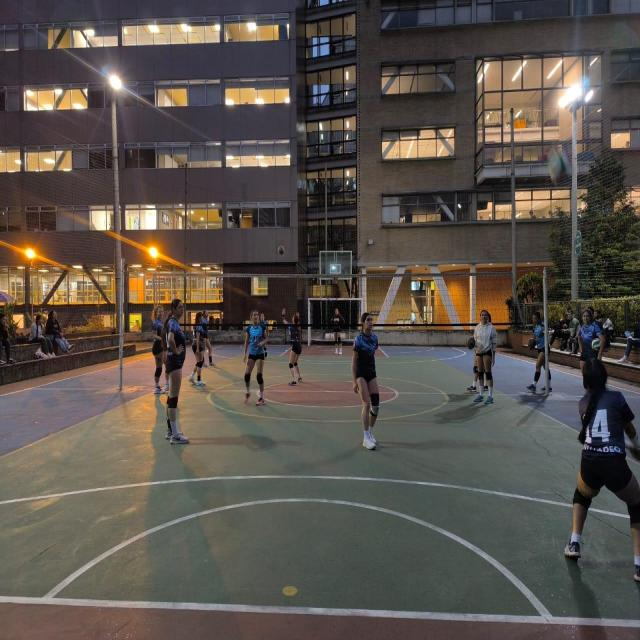volleyball: (591, 337, 601, 351), (466, 337, 476, 348), (528, 338, 536, 348), (278, 245, 284, 256)
